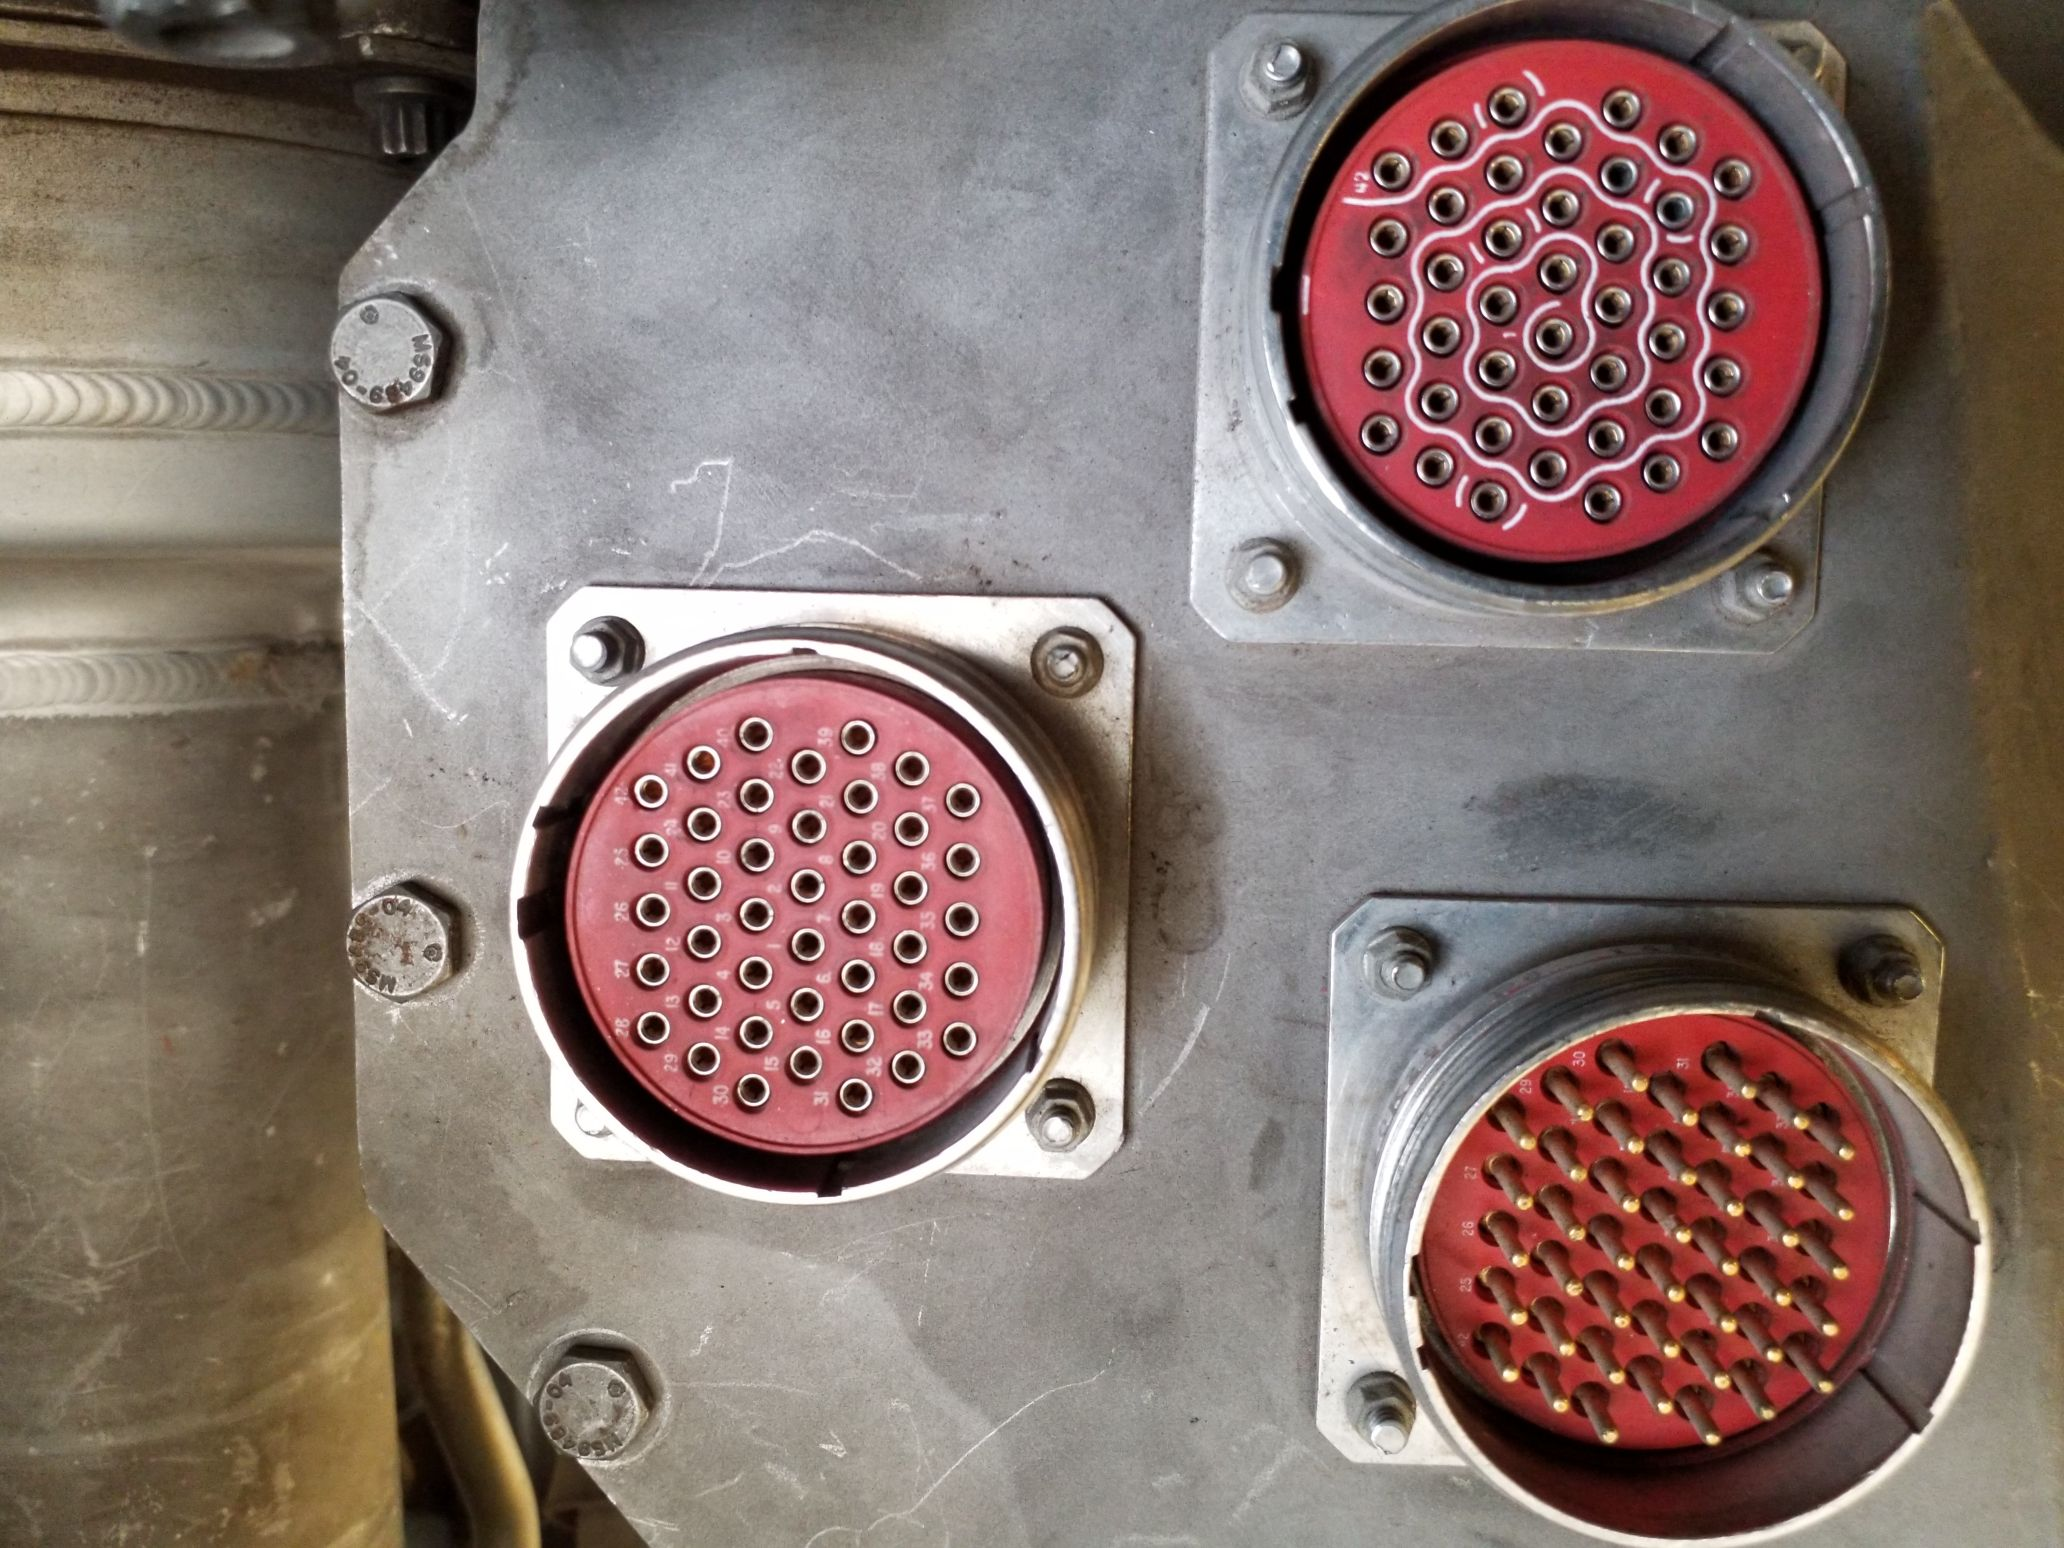inletnumbers: (509, 590, 1104, 1203)
inletround: (1217, 15, 1911, 616)
outlet: (1329, 904, 1996, 1548)
